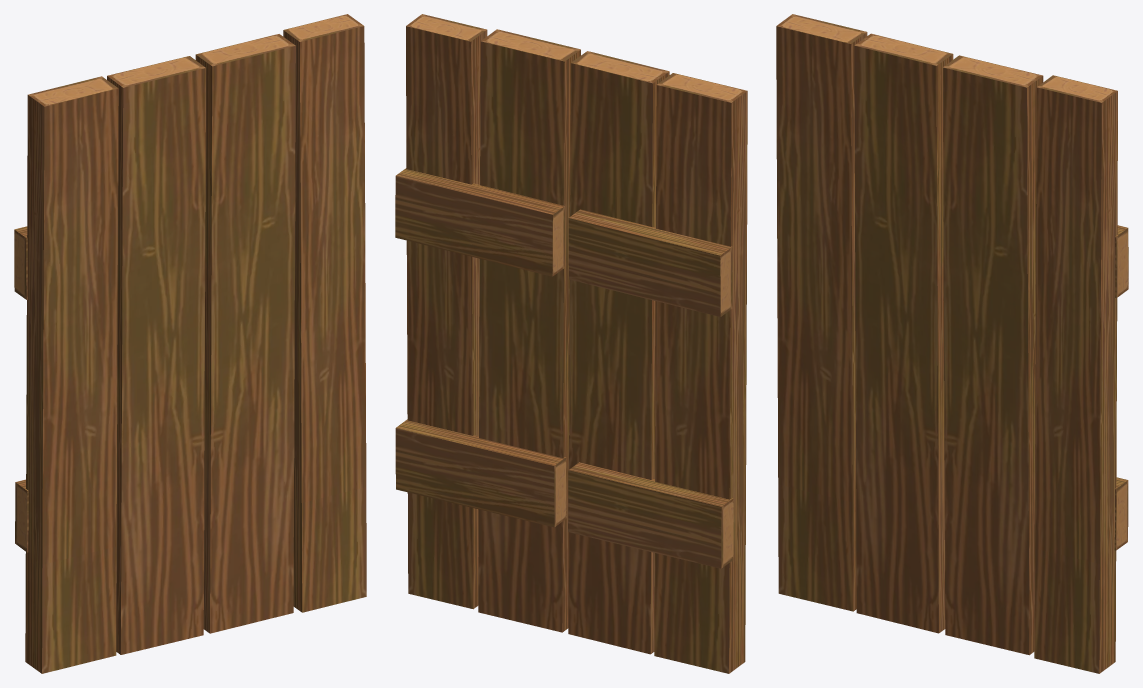
The model's file is WindowShutters_Thin_Flat_Closed.glb.
3 views of the same model, side by side, from view 1: azimuth 30°, elevation 25°; view 2: azimuth 150°, elevation 25°; view 3: azimuth 330°, elevation 25° (orthographic).
Parts seen in each view (by area): view 1: WindowShutters_Thin_Flat_Closed; view 2: WindowShutters_Thin_Flat_Closed; view 3: WindowShutters_Thin_Flat_Closed.
Part boxes in pixels (box(x1,y1,x2,y2)): WindowShutters_Thin_Flat_Closed: box(14, 14, 366, 673); WindowShutters_Thin_Flat_Closed: box(395, 14, 747, 673); WindowShutters_Thin_Flat_Closed: box(776, 14, 1128, 673).
Size of the model in its own units: 0.8517 by 1.42 by 0.1358.
1 material, 1 textured.
